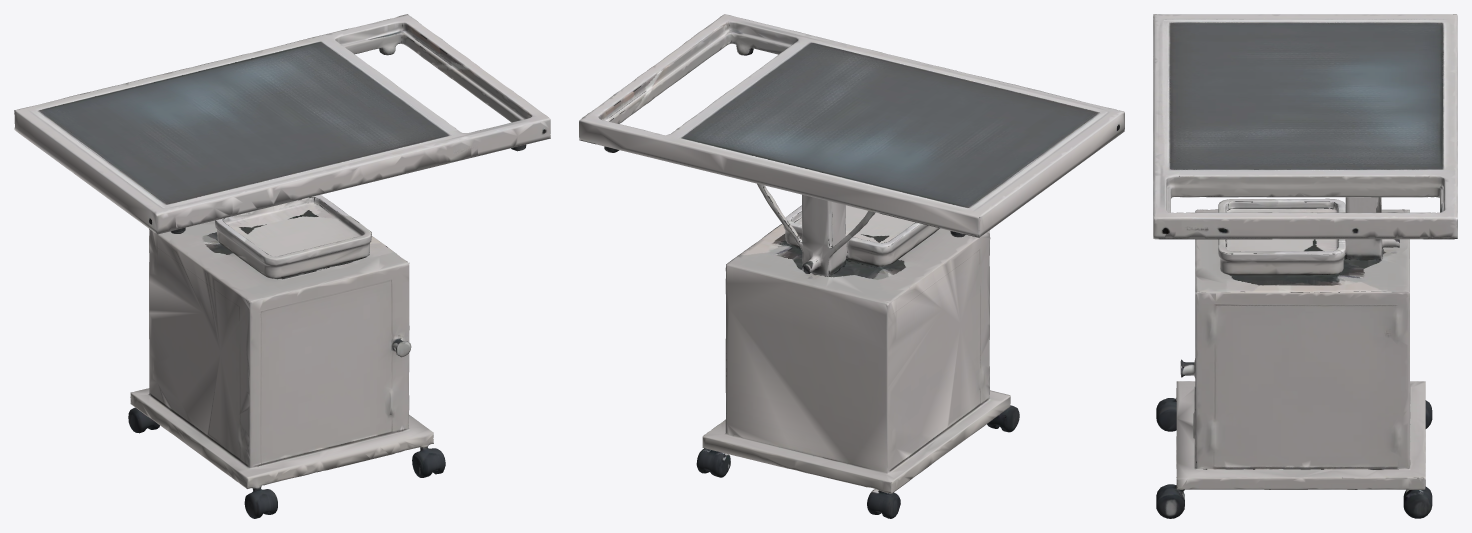
File: vet_equip_examination_table.glb
The picture shows the model from 3 angles, left to right: view 1: azimuth 30°, elevation 25°; view 2: azimuth 150°, elevation 25°; view 3: azimuth 270°, elevation 25°; orthographic projection. The views are drawn at different scales.
Parts seen in each view (by area): view 1: model; view 2: model; view 3: model.
Boxes of the visible parts, box(x1,y1,x2,y2) form: model: box(14, 14, 550, 518); model: box(579, 14, 1124, 518); model: box(1153, 14, 1457, 518).
Bounding box in the file's own units: 1.9 × 1.54 × 1.2.
Materials: 1 (1 with a texture image).
